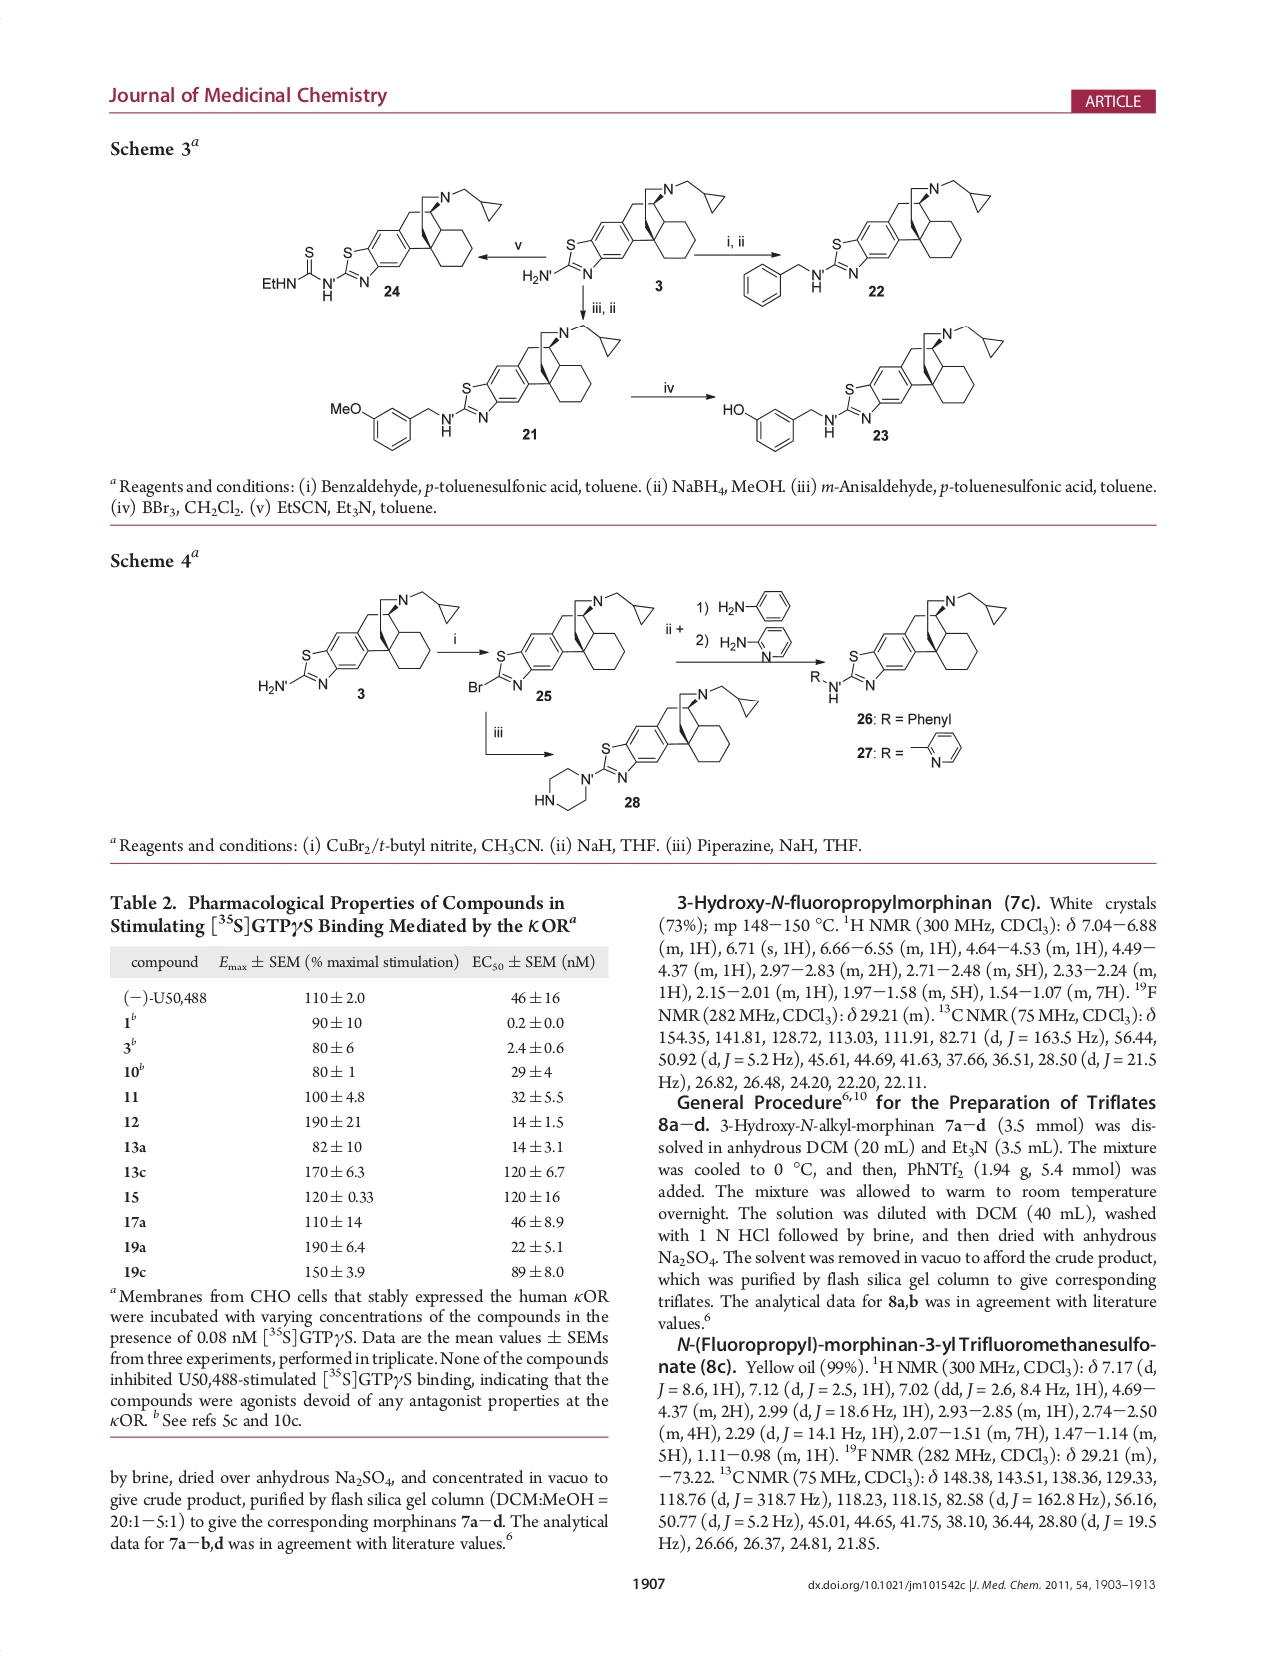exist_molecular: (326, 323, 621, 453), (719, 322, 1005, 453), (739, 178, 993, 309), (533, 684, 761, 814), (259, 185, 504, 302), (809, 589, 1009, 707), (257, 588, 460, 700), (523, 178, 726, 285), (468, 590, 656, 696), (715, 625, 797, 664), (715, 588, 790, 622), (907, 729, 961, 771)
